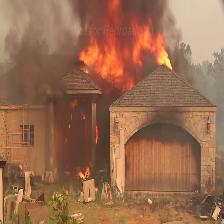fire: (66, 5, 179, 86), (73, 96, 109, 208)
smoke: (0, 0, 68, 118)
